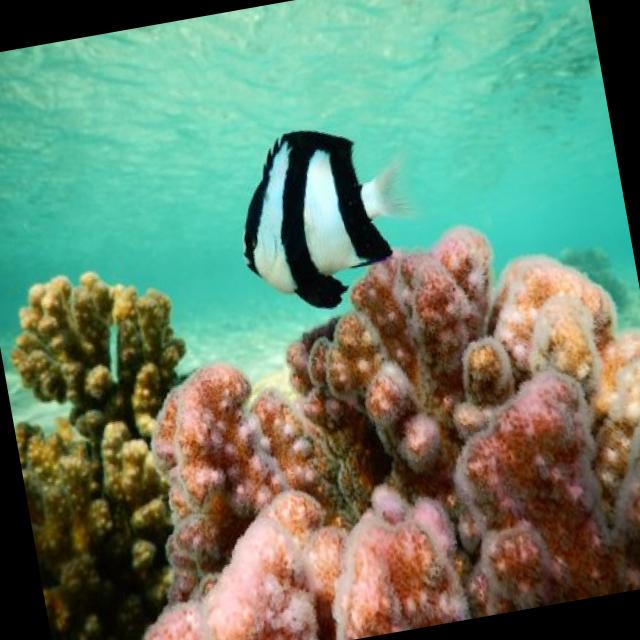ThreeStripedDamselfish: (219, 102, 422, 323)
